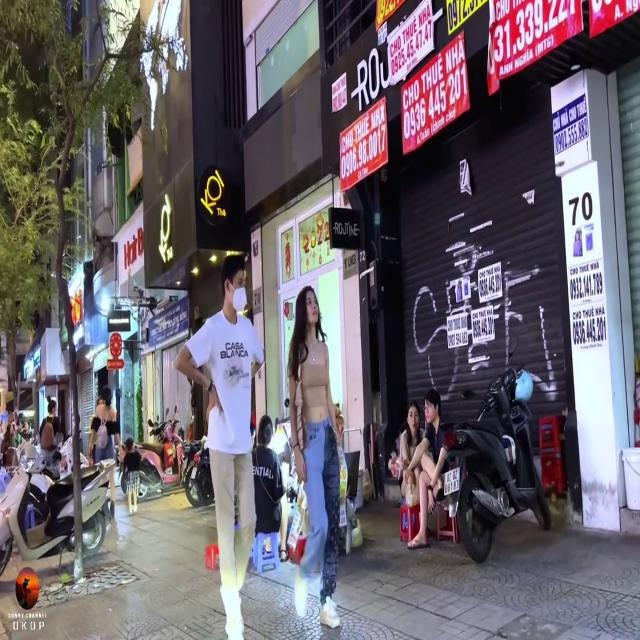bien_trang: (442, 466, 463, 495)
